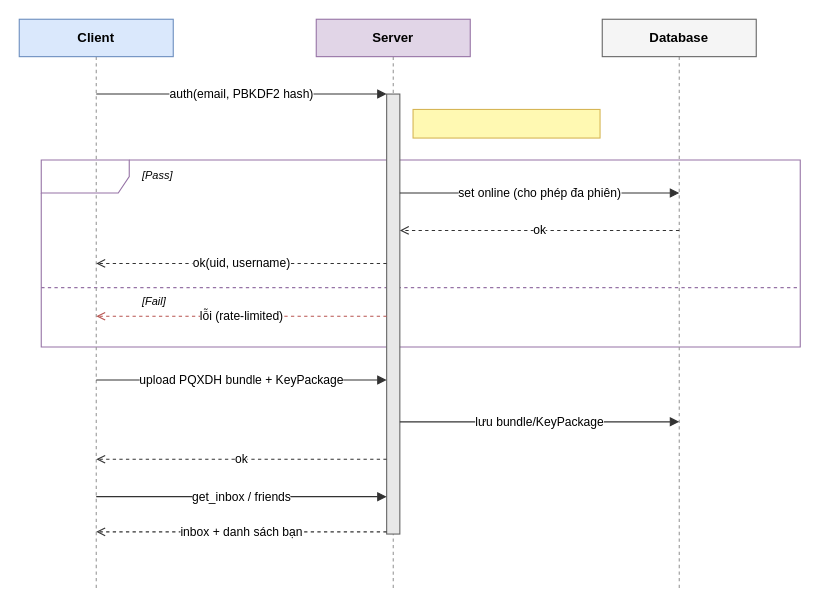
This 820x609 diagram has some shape labels left out. The shapes that lost their labels are listed below. From the top down, each one's box as (x1, y1, x2, y2) in pixels, then its label:
(412, 108, 600, 138): verify PBKDF2 + rate-limit
(40, 159, 800, 347): alt [xác thực]
